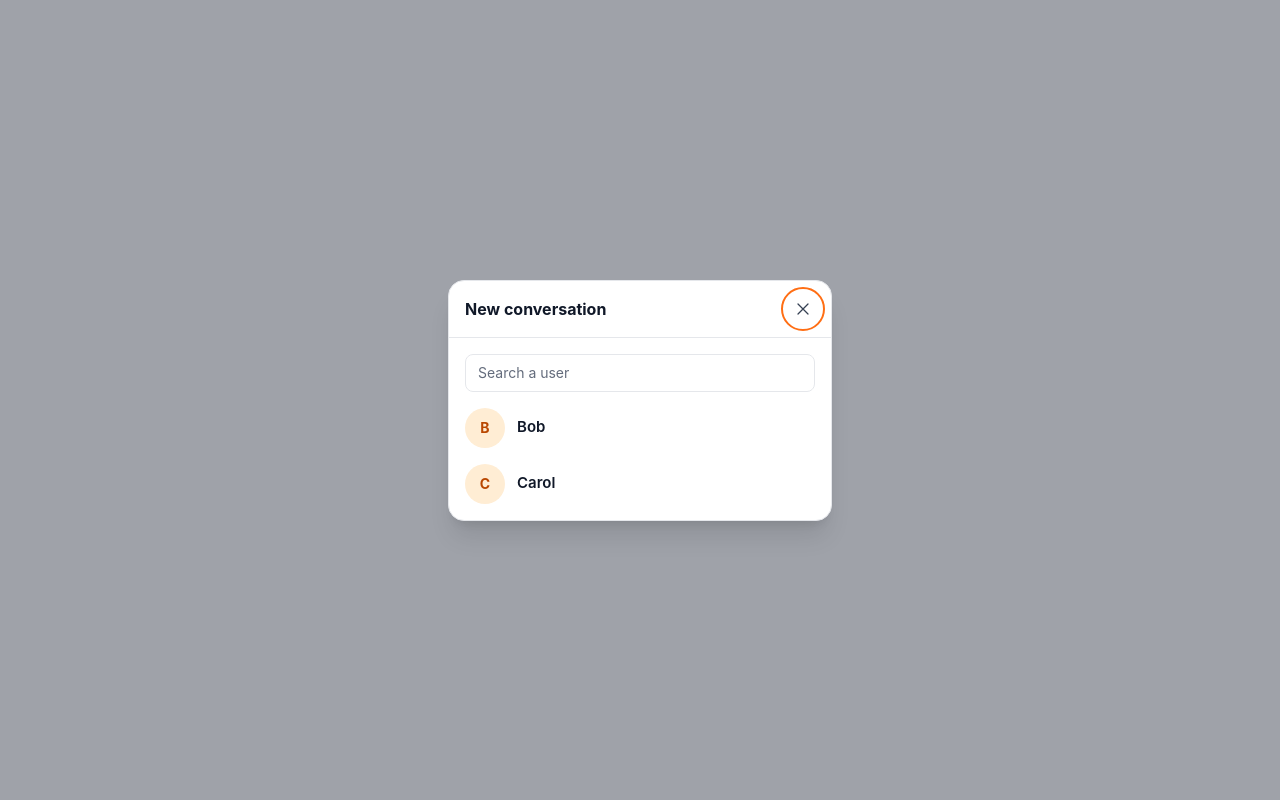
ConversationRecipientDialog › Clear recipient search term › should list every recipient again and keep recipient search box ready for typing
In the search field with placeholder "Search a user": (640, 372) [465,354,815,392], type "car"
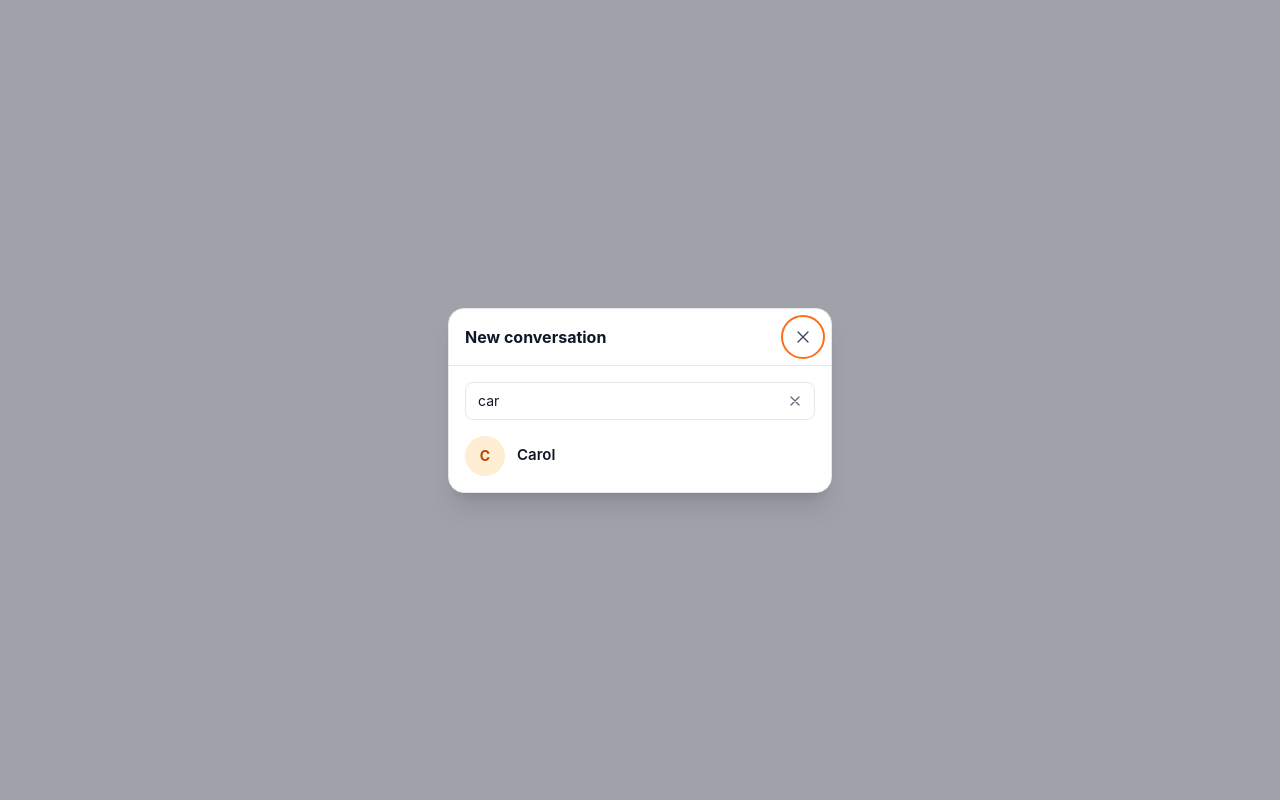
Click the button named "Clear search": (795, 400) [781,386,809,414]
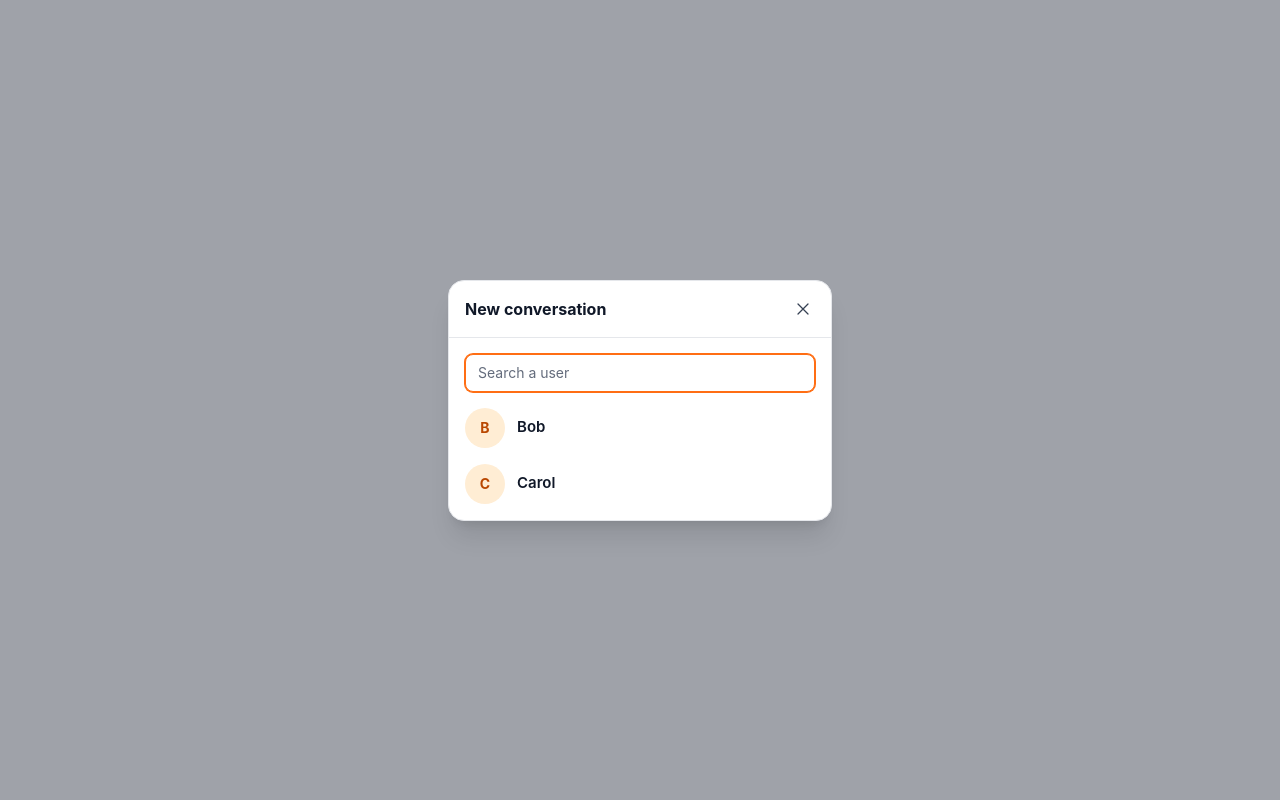
Now the search field with placeholder "Search a user" is empty, box [465,354,815,392]
